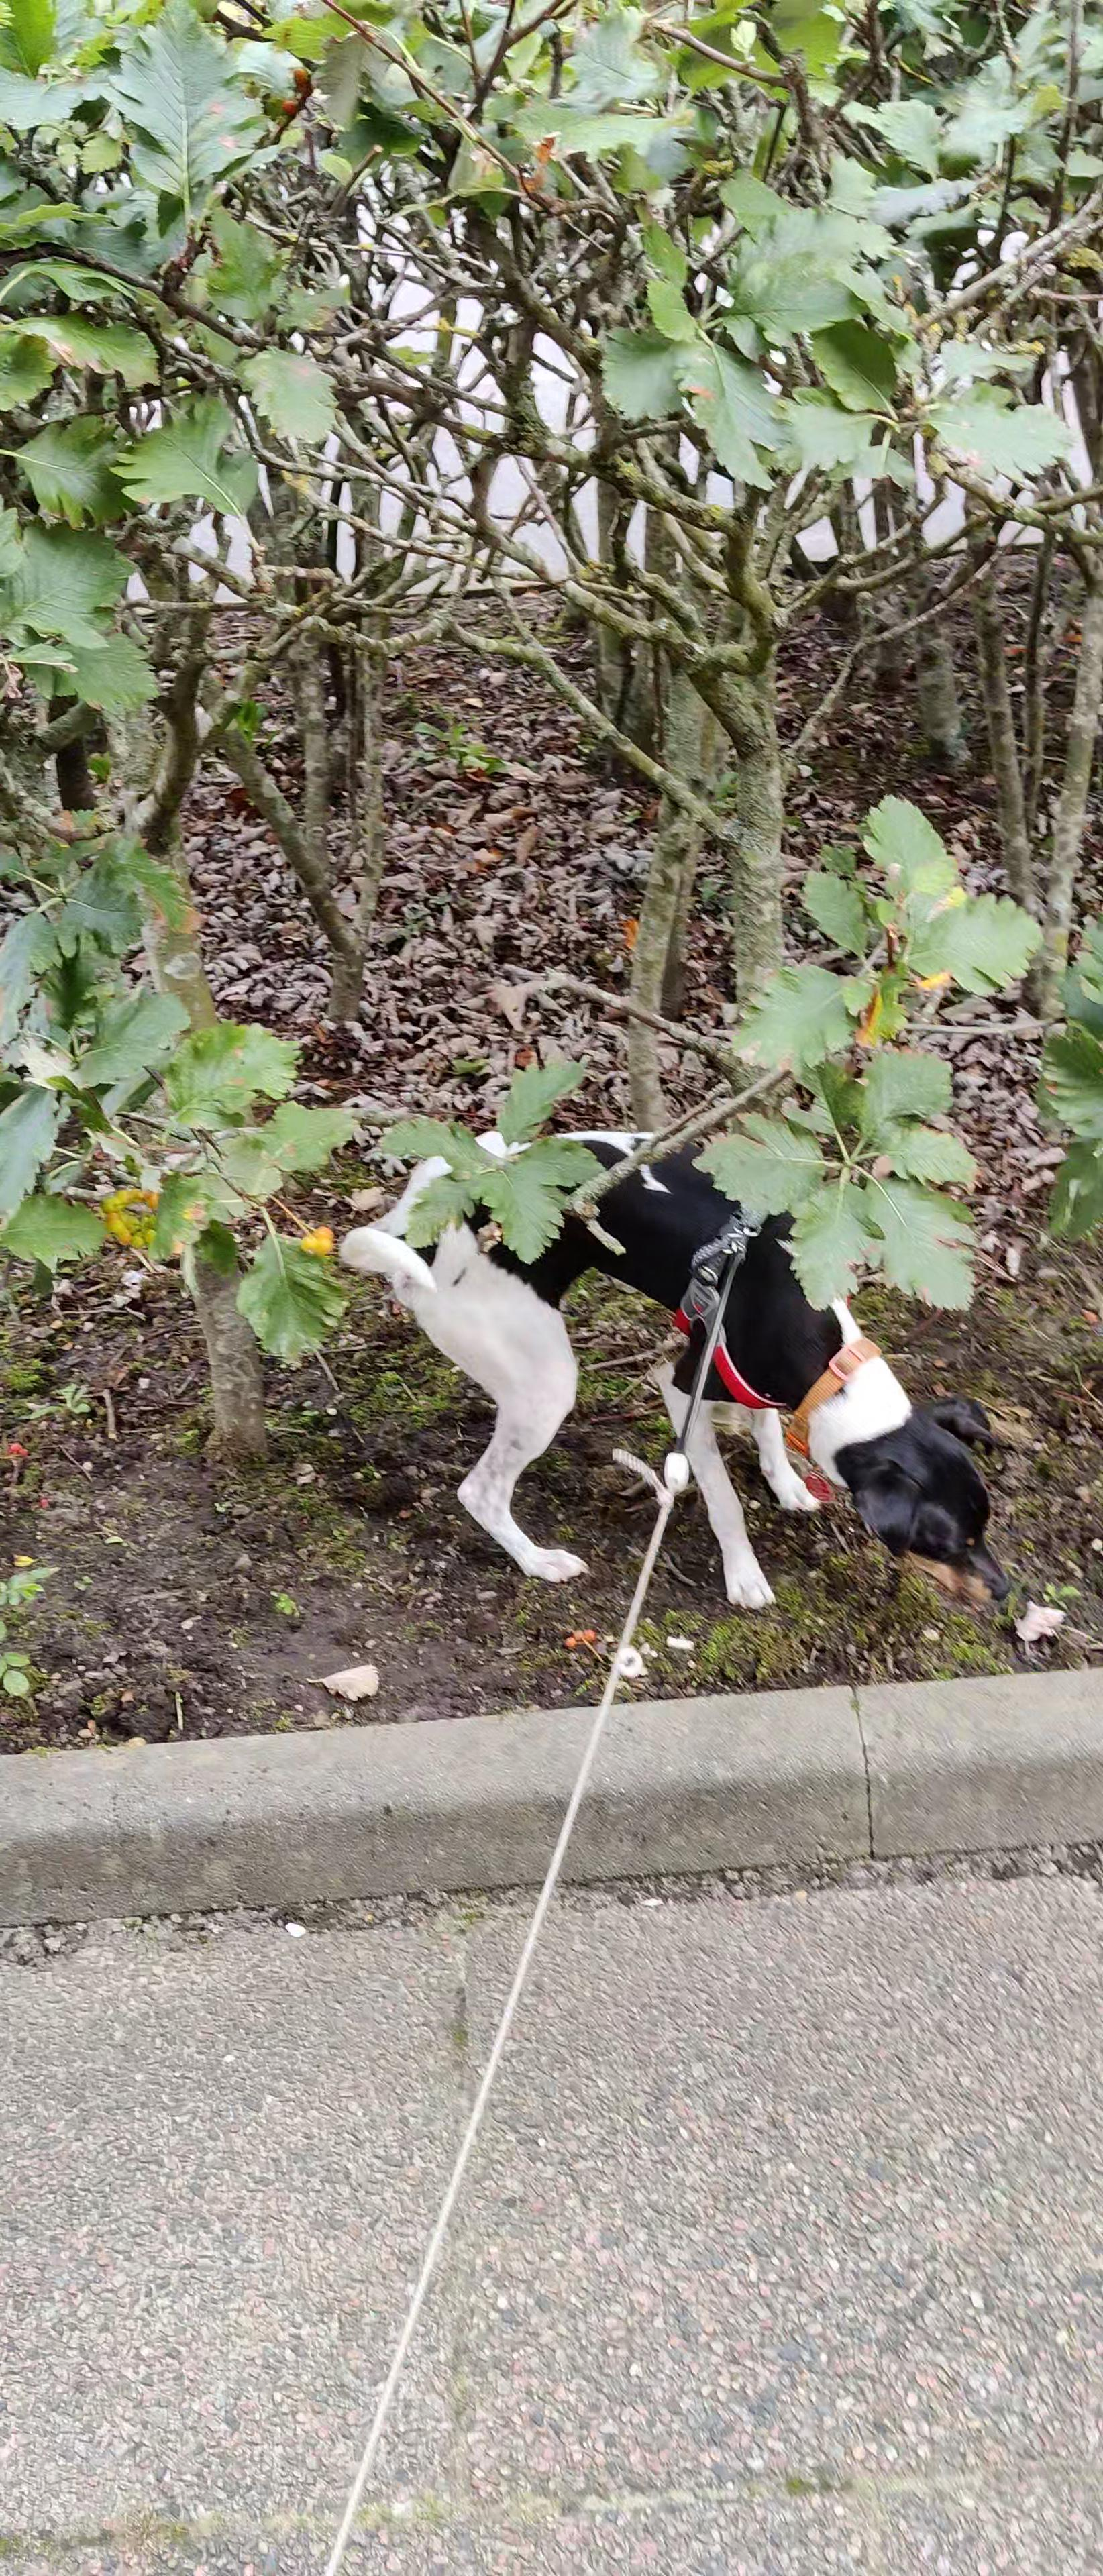Dog: (335, 1097, 1026, 1615)
